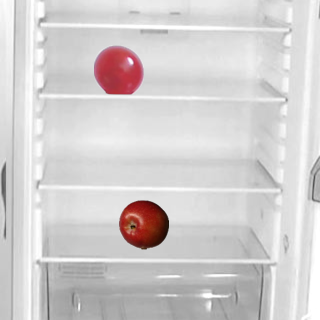Apple Braeburn: (118, 199, 168, 249)
Redcurrant: (93, 44, 143, 94)
